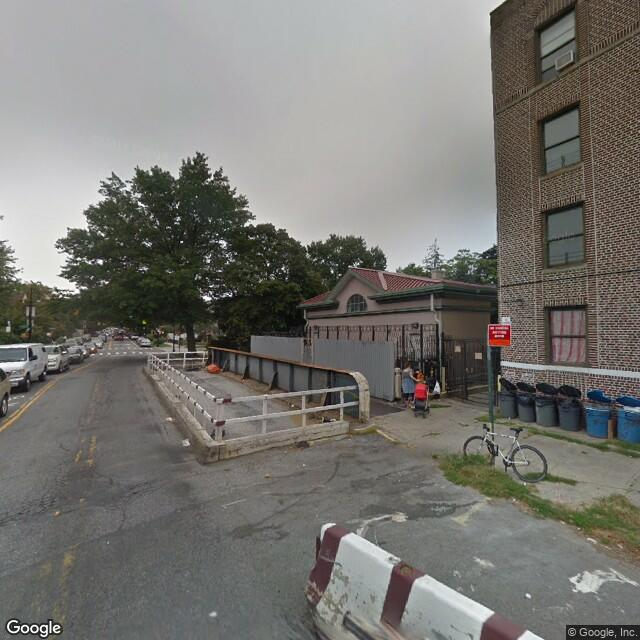litter: (510, 586, 547, 609), (159, 409, 176, 431), (179, 435, 201, 449), (203, 362, 227, 374)
